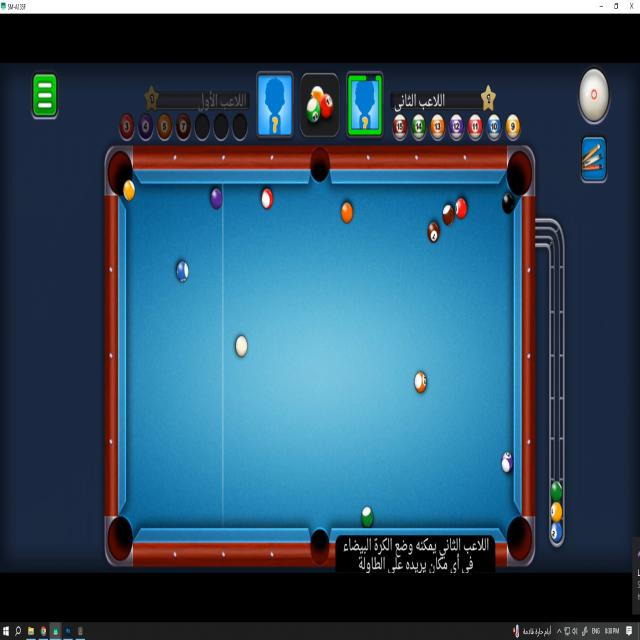object_ball: (176, 260, 189, 282), (502, 192, 514, 213), (261, 189, 273, 209), (211, 188, 222, 209), (455, 198, 466, 219), (361, 507, 372, 527), (341, 203, 352, 223), (443, 205, 454, 225), (428, 222, 439, 242), (415, 372, 426, 392), (502, 453, 513, 472), (124, 180, 134, 200)
white_cue_ball: (236, 336, 247, 357)
